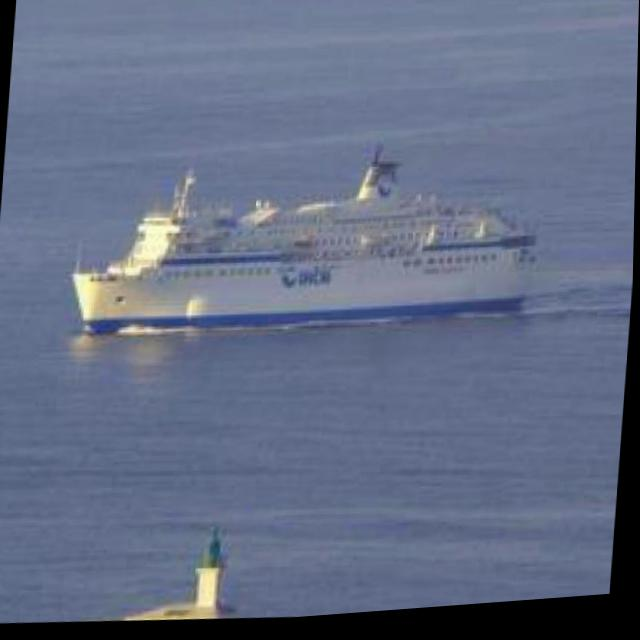ship2: (71, 155, 539, 338)
